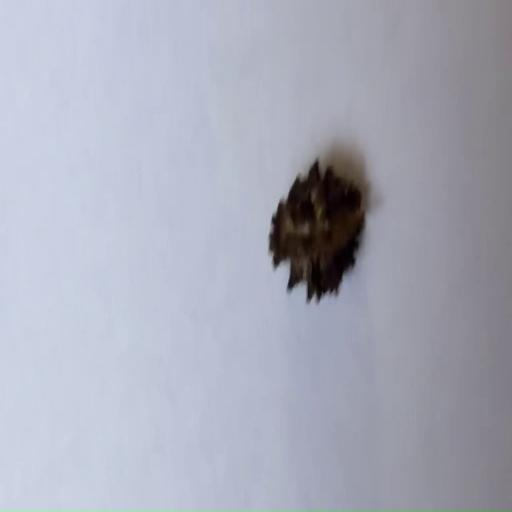papaya_seed: (244, 125, 374, 306)
